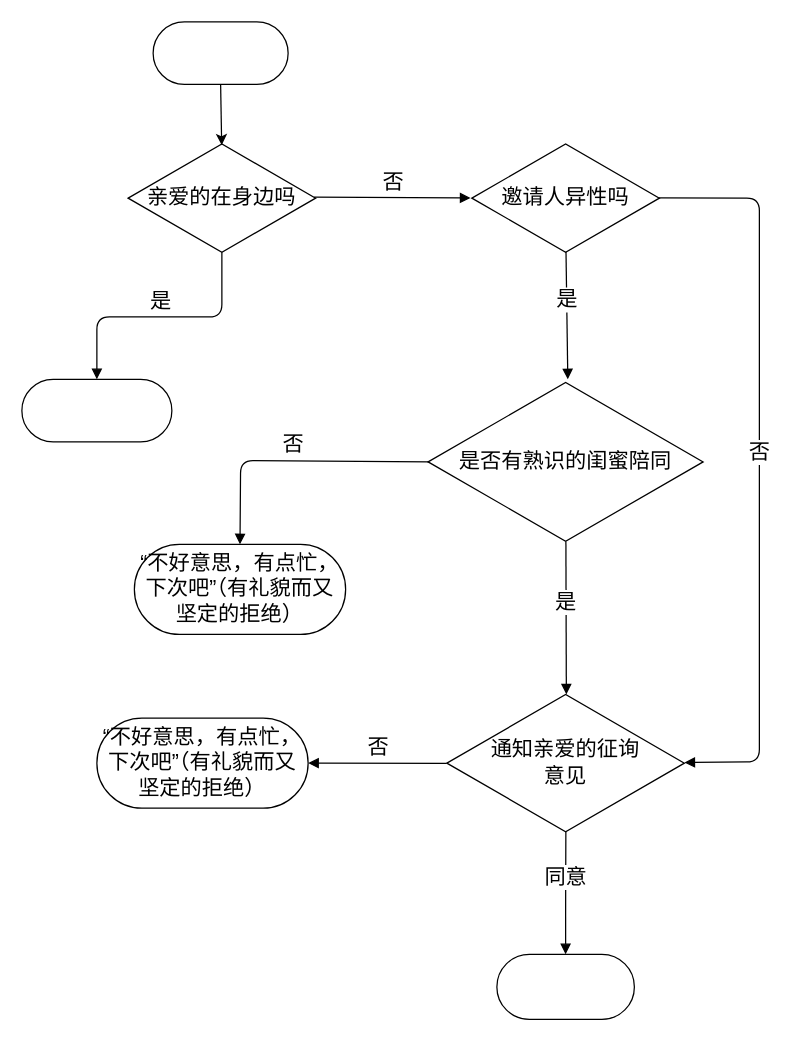
Image size: 791x1041. Some labels were removed from this diagram. The centre of each missing label's shape, as x and y in pixels:
Enjoy！但是注意安全: (x=565, y=986)
带亲爱的一起去呀: (x=96, y=410)
被邀请蹦迪: (x=220, y=52)
